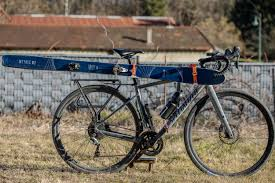skis: (3, 53, 227, 88)
